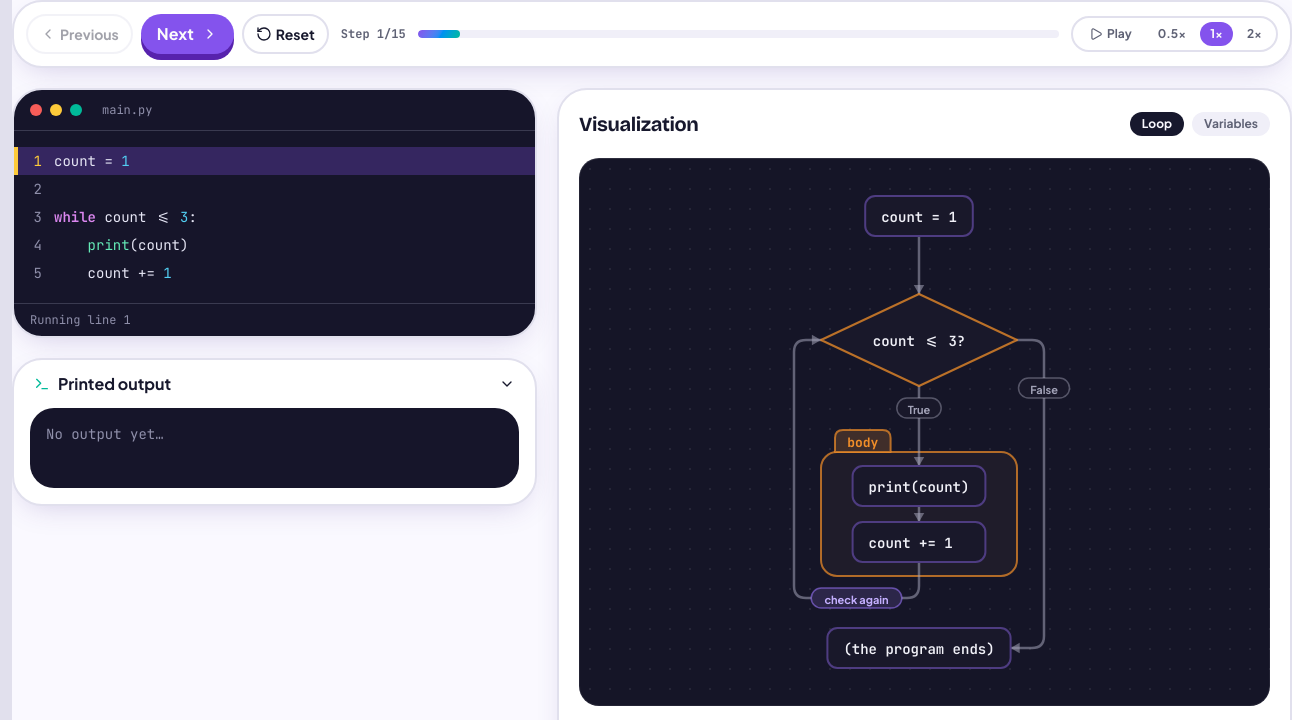
Test: WalkthroughPlayer keeps code and diagram in sync › highlights the line and the diagram part of the same event
Click the button named "Next step".
click(187, 34)  # box [141, 14, 234, 54]
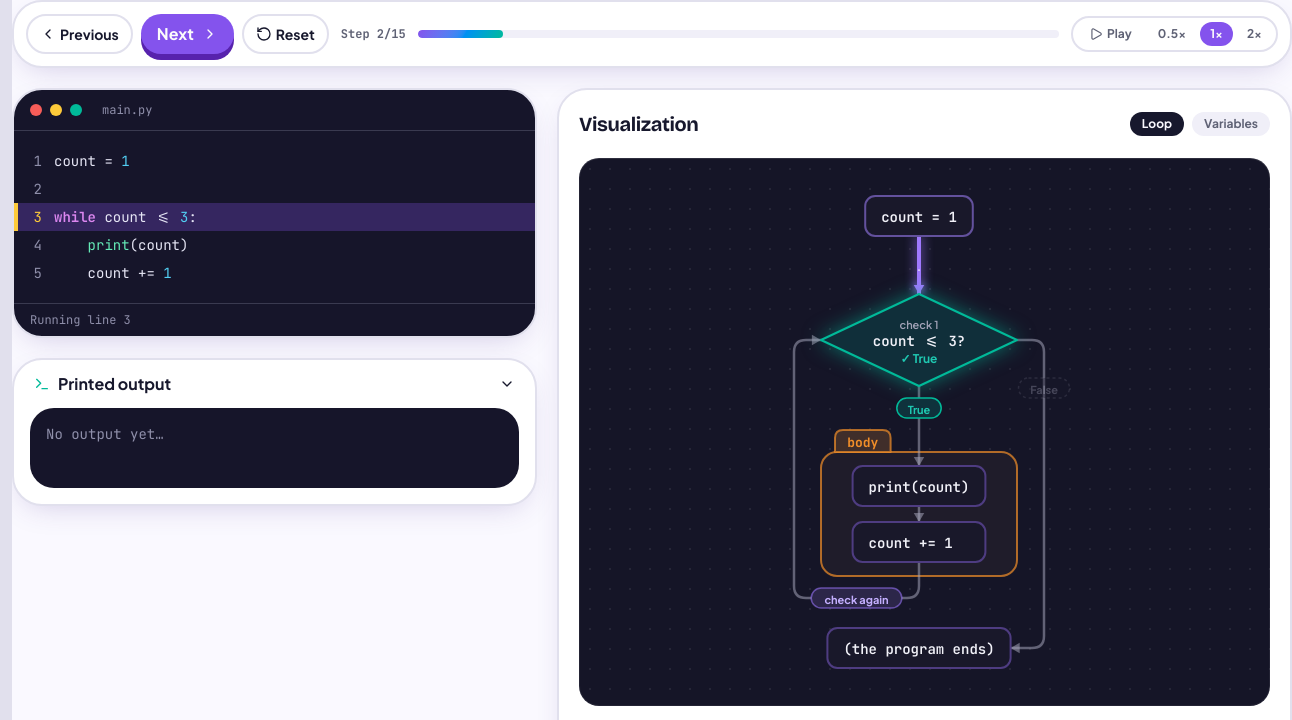
Expected: the text "Running line 3" is shown, [14, 303, 535, 336]
Click the button named "Next step".
click(187, 34)  # box [141, 14, 234, 54]
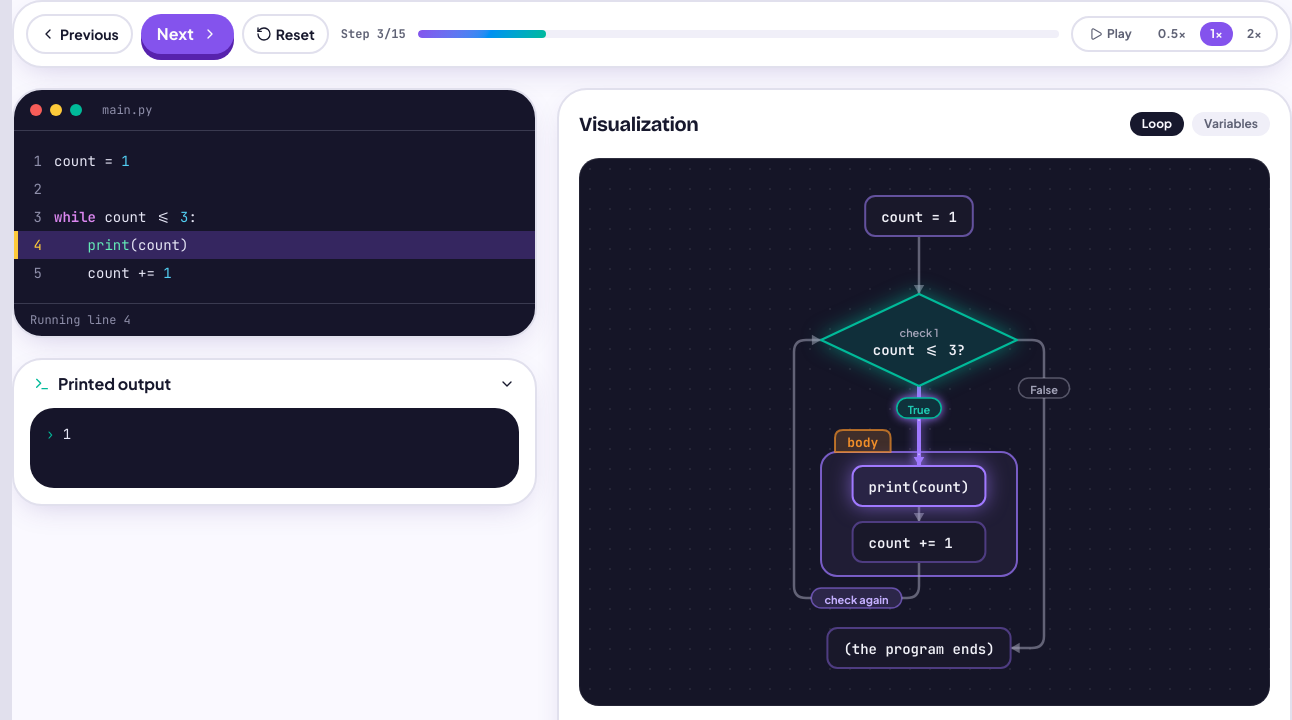
Expected: the text "Running line 4" is shown, [14, 303, 535, 336]
